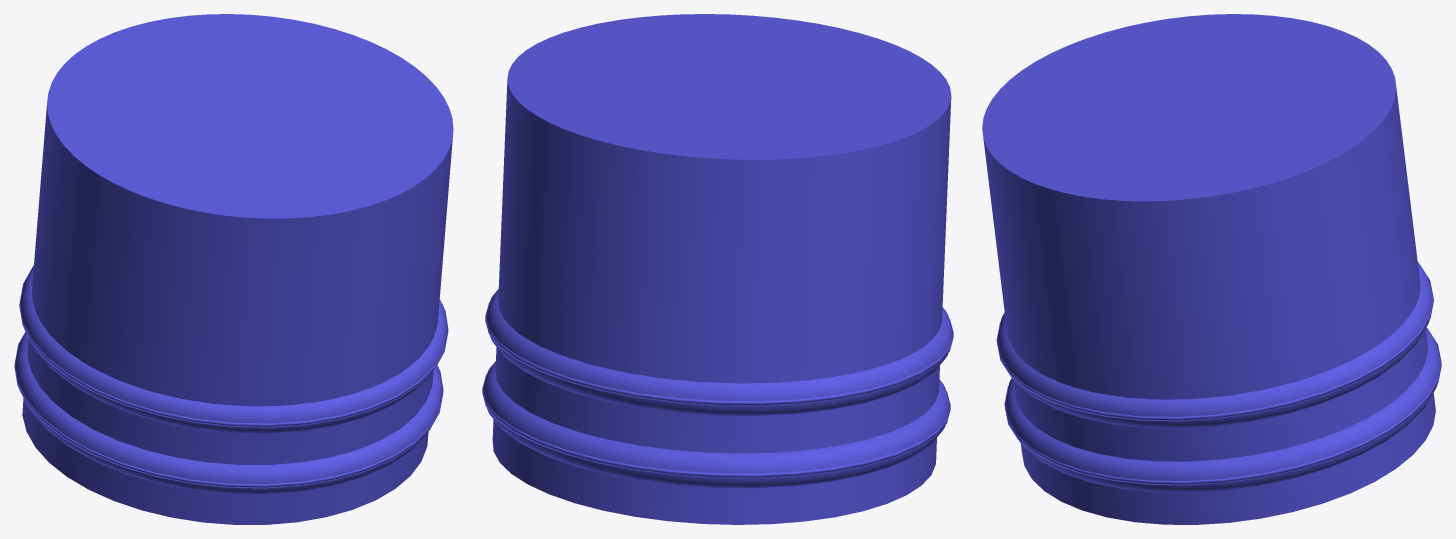
Rendered from bombilla193.obj.
3 views of the same model, side by side, from view 1: azimuth 30°, elevation 25°; view 2: azimuth 150°, elevation 25°; view 3: azimuth 270°, elevation 25° (orthographic). The views are drawn at different scales.
Parts seen in each view (by area): view 1: Cylinder001, Cylinder004, Cylinder002, Cylinder003, Cylinder006; view 2: Cylinder001, Cylinder004, Cylinder003, Cylinder006, Cylinder002; view 3: Cylinder001, Cylinder004, Cylinder003, Cylinder002, Cylinder006.
Boxes of the visible parts, x1,y1,x2,y2 form: Cylinder001: (32,14,453,406); Cylinder004: (14,332,443,494); Cylinder002: (19,265,448,433); Cylinder003: (27,337,433,464); Cylinder006: (22,398,428,524); Cylinder001: (498,14,951,383); Cylinder004: (482,361,950,488); Cylinder003: (495,347,939,453); Cylinder006: (492,419,936,524); Cylinder002: (485,289,953,415); Cylinder001: (982,14,1420,399); Cylinder004: (1004,327,1441,492); Cylinder003: (1013,328,1428,461); Cylinder002: (996,261,1433,428); Cylinder006: (1021,393,1435,524).
Bounding box in the file's own units: 72.45 × 66.78 × 75.53.
